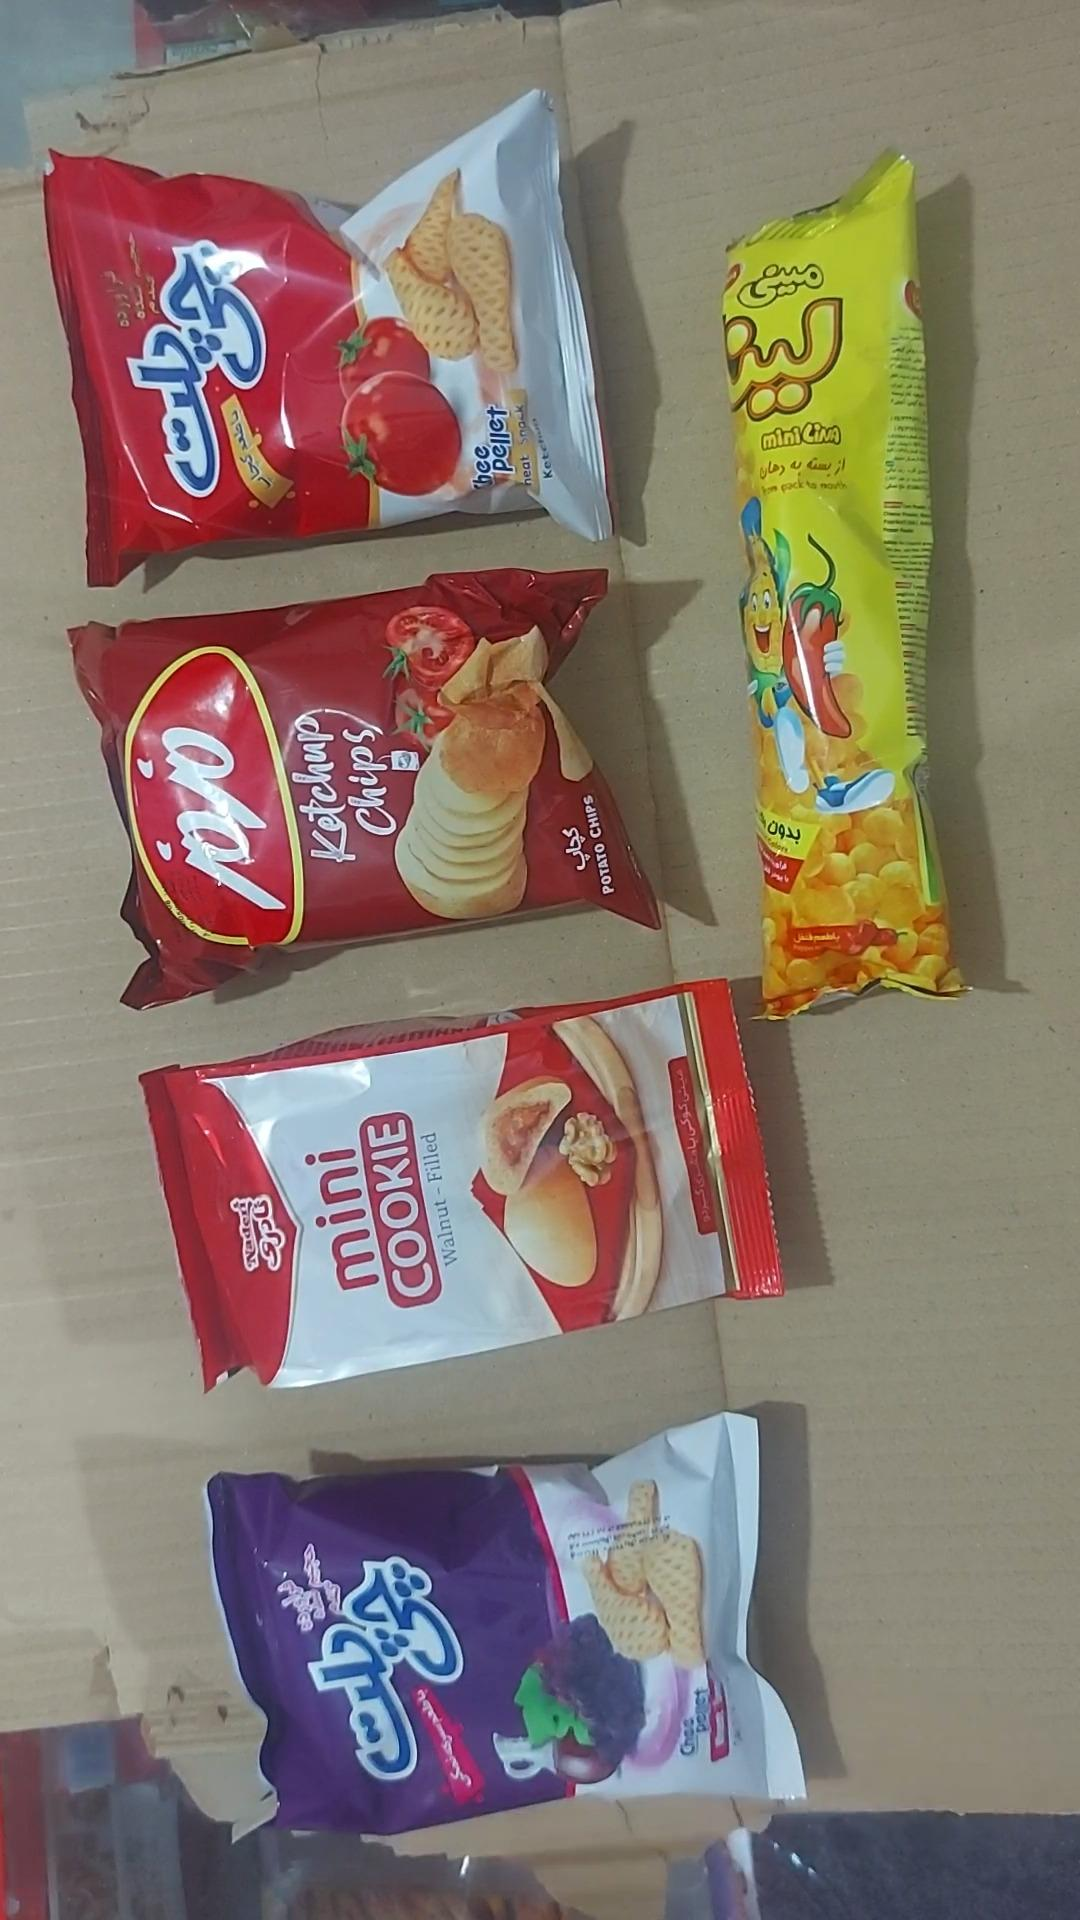Chee pellet ketchup: (40, 91, 613, 589)
Chee pellet vinegar: (204, 1414, 808, 1840)
Maz Maz ketchup chips: (65, 568, 663, 1011)
Mini Lina: (720, 150, 967, 1025)
Naderi mini cookie: (137, 980, 785, 1394)
